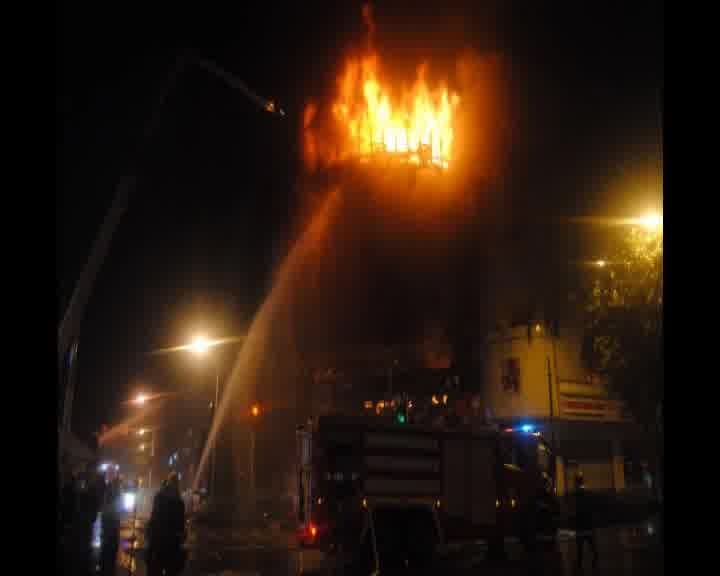fire: (332, 72, 458, 172)
